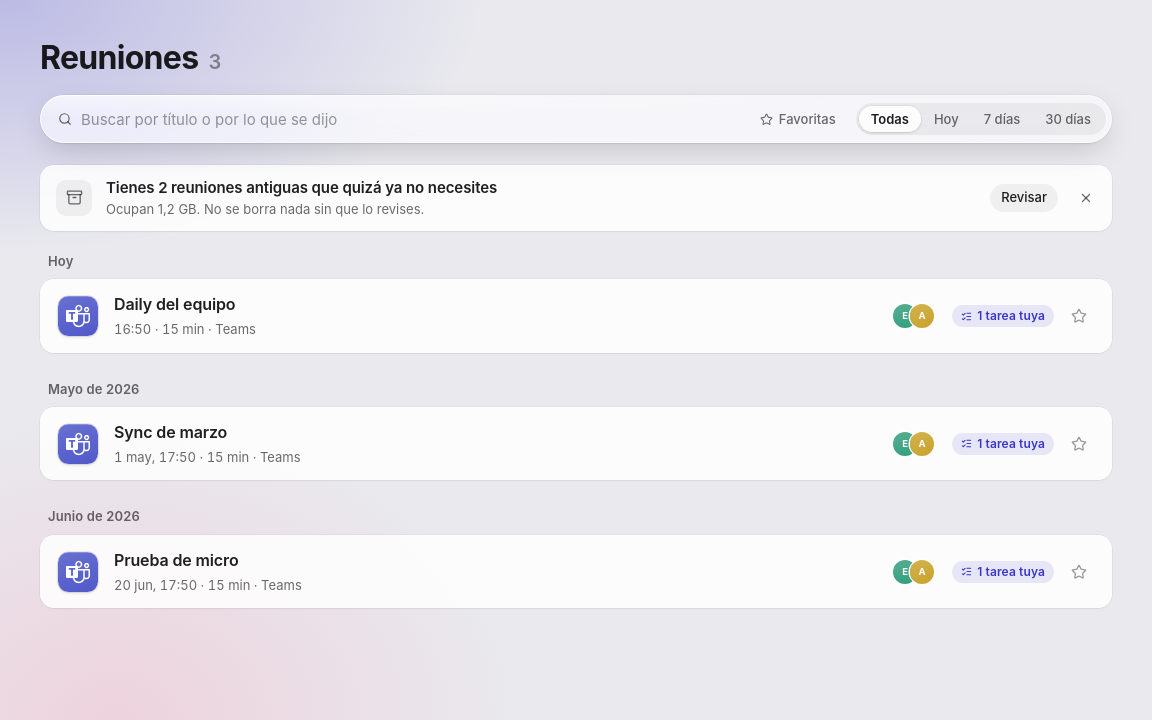
it: sugerencia de limpieza de reuniones antiguas › la hoja lista cada reunión con sus motivos y su tamaño
Step 1. Click the button "Revisar" → (1024,198), box [990, 184, 1058, 212]
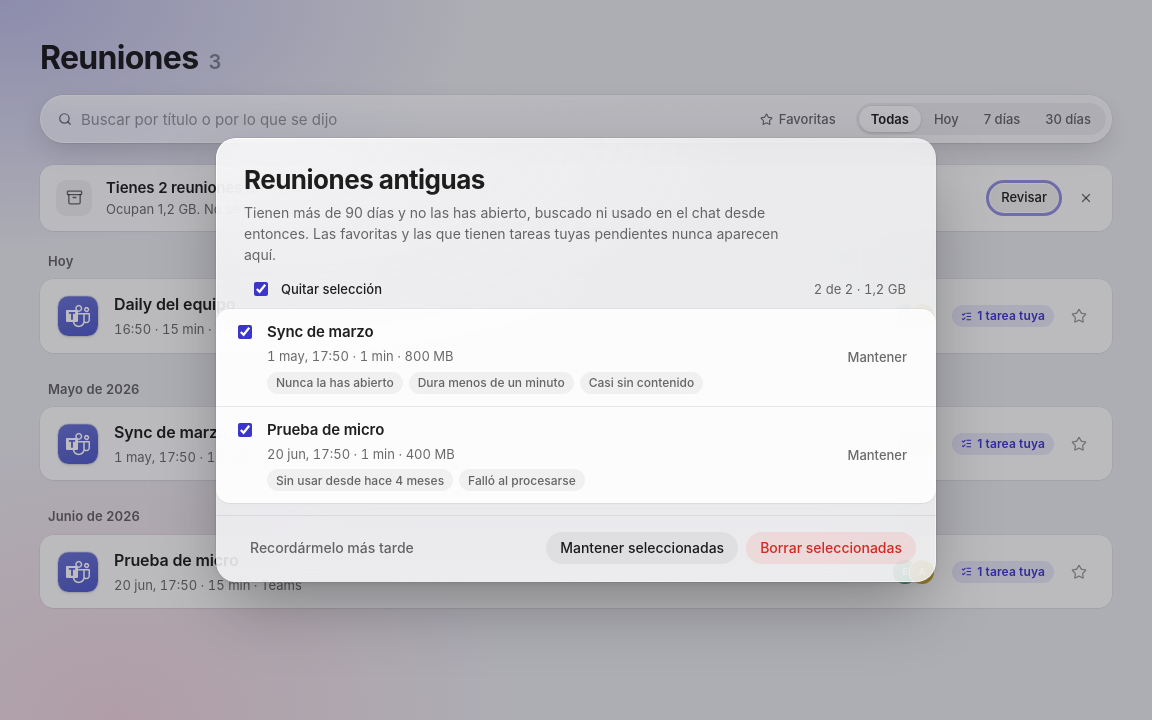
Result: the text "Tienen más de 90 días" is shown at [244, 202, 792, 265]
Result: the text "Nunca la has abierto" is shown at [267, 372, 403, 394]
Result: the text "Dura menos de un minuto" is shown at [409, 372, 574, 394]
